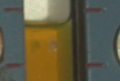border: (1, 62, 27, 70), (2, 6, 25, 15), (83, 61, 110, 68), (82, 6, 105, 14)
liquidlevel: (23, 16, 75, 29)
